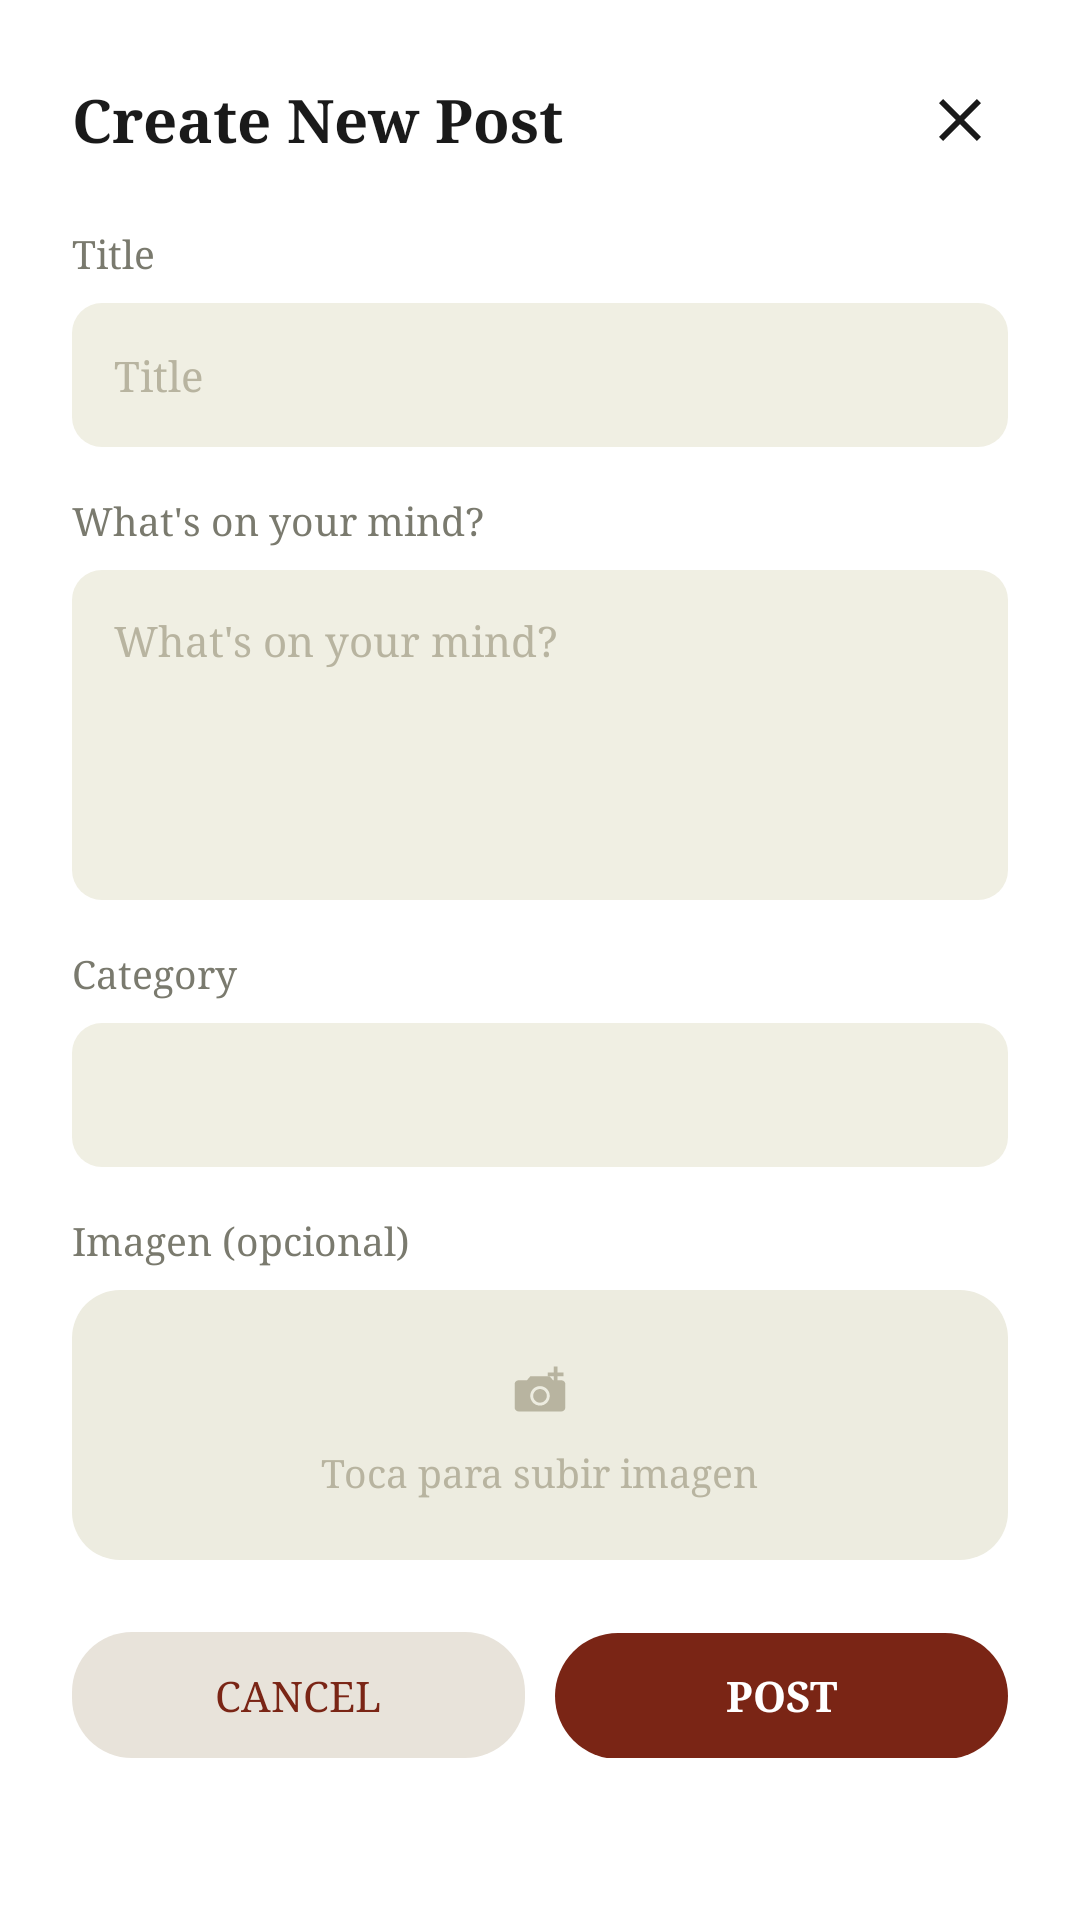

Locate icon controls on the screen. Image size 1080 x 1920, boxes as (x1, y1, x2, y2).
camera add: (515, 1366, 565, 1412)
Cerrar: (939, 99, 981, 141)
